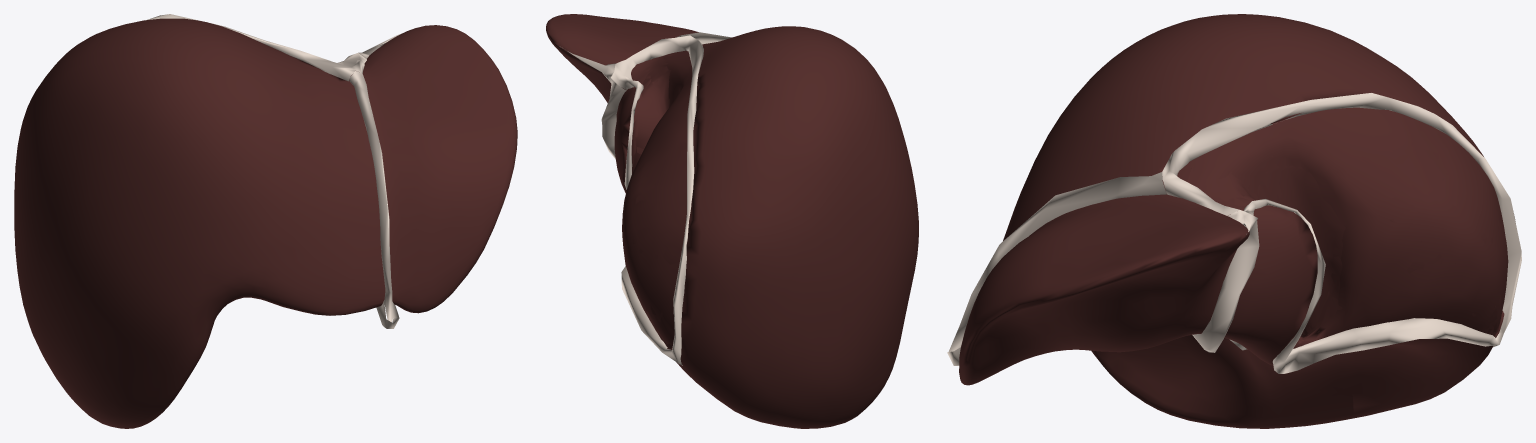
The model's file is vh_m_liver-40.glb.
3 views of the same model, side by side, from view 1: azimuth 30°, elevation 25°; view 2: azimuth 150°, elevation 25°; view 3: azimuth 270°, elevation 25° (orthographic). The views are drawn at different scales.
Parts seen in each view (by area): view 1: VH_M_liver_capsule, VH_M_falciform_ligament, VH_M_coronary_ligament_of_liver; view 2: VH_M_liver_capsule, VH_M_bare_area_of_liver, VH_M_coronary_ligament_of_liver, VH_M_right_posterosuperior_segment, VH_M_caudate_lobe_of_liver, VH_M_ligamentum_venosum, VH_M_diaphragmatic_surface, VH_M_right_posteroinferior_segment; view 3: VH_M_liver_capsule, VH_M_bare_area_of_liver, VH_M_coronary_ligament_of_liver, VH_M_caudate_lobe_of_liver, VH_M_falciform_ligament, VH_M_right_posterosuperior_segment, VH_M_diaphragmatic_surface, VH_M_ligamentum_venosum.
Boxes of the visible parts, x1,y1,x2,y2 form: VH_M_liver_capsule: (14,18,517,428); VH_M_falciform_ligament: (349,71,393,322); VH_M_coronary_ligament_of_liver: (146,14,366,81); VH_M_liver_capsule: (546,14,918,428); VH_M_bare_area_of_liver: (622,51,692,347); VH_M_coronary_ligament_of_liver: (610,35,703,365); VH_M_right_posterosuperior_segment: (630,104,688,317); VH_M_caudate_lobe_of_liver: (631,53,691,153); VH_M_ligamentum_venosum: (601,78,626,158); VH_M_diaphragmatic_surface: (631,75,677,341); VH_M_right_posteroinferior_segment: (646,311,674,345); VH_M_liver_capsule: (959,14,1504,428); VH_M_bare_area_of_liver: (1182,107,1508,344); VH_M_coronary_ligament_of_liver: (1162,93,1521,373); VH_M_caudate_lobe_of_liver: (1187,135,1351,348); VH_M_falciform_ligament: (948,172,1166,351); VH_M_right_posterosuperior_segment: (1341,108,1504,316); VH_M_diaphragmatic_surface: (1227,164,1497,346); VH_M_ligamentum_venosum: (1192,219,1259,352).
Bounding box in the file's own units: 0.1914 × 0.1746 × 0.2023.
